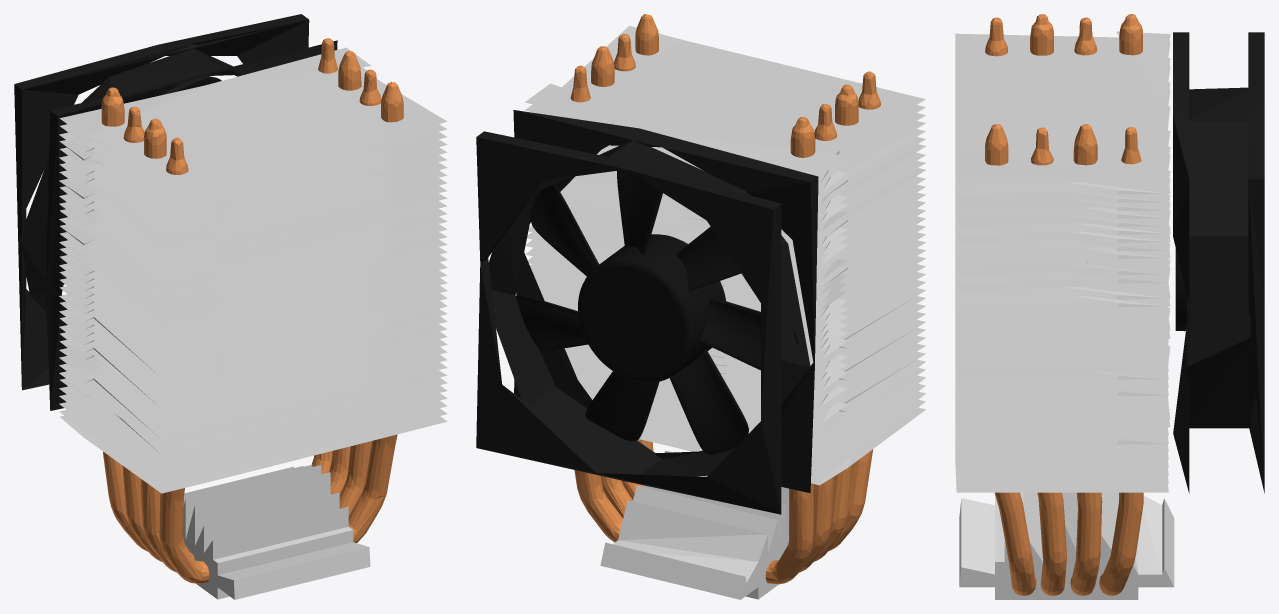
File: cooler_air-lod1.glb
3 views of the same model, side by side, from view 1: azimuth 30°, elevation 25°; view 2: azimuth 150°, elevation 25°; view 3: azimuth 270°, elevation 25° (orthographic). The views are drawn at different scales.
Parts seen in each view (by area): view 1: Object_4, Object_6, Object_5, Object_3; view 2: Object_4, Object_6, Object_2, Object_5, Object_3; view 3: Object_4, Object_6, Object_3, Object_5, Object_2.
Boxes of the visible parts, x1,y1,x2,y2 form: Object_4: [59, 47, 447, 493]; Object_6: [14, 14, 337, 410]; Object_5: [183, 465, 370, 599]; Object_3: [101, 38, 403, 583]; Object_4: [525, 26, 926, 485]; Object_6: [476, 110, 818, 514]; Object_2: [516, 170, 798, 454]; Object_5: [600, 450, 788, 599]; Object_3: [570, 14, 880, 584]; Object_4: [955, 31, 1170, 492]; Object_6: [1173, 32, 1264, 493]; Object_3: [985, 14, 1143, 595]; Object_5: [959, 492, 1174, 599]; Object_2: [1175, 248, 1186, 331].
Bounding box in the file's own units: 0.103 × 0.159 × 0.0899.
